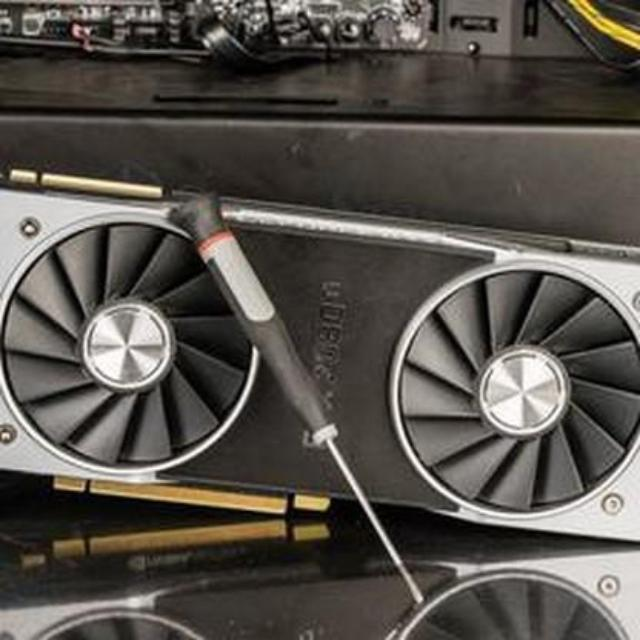GPU: (0, 161, 640, 547)
